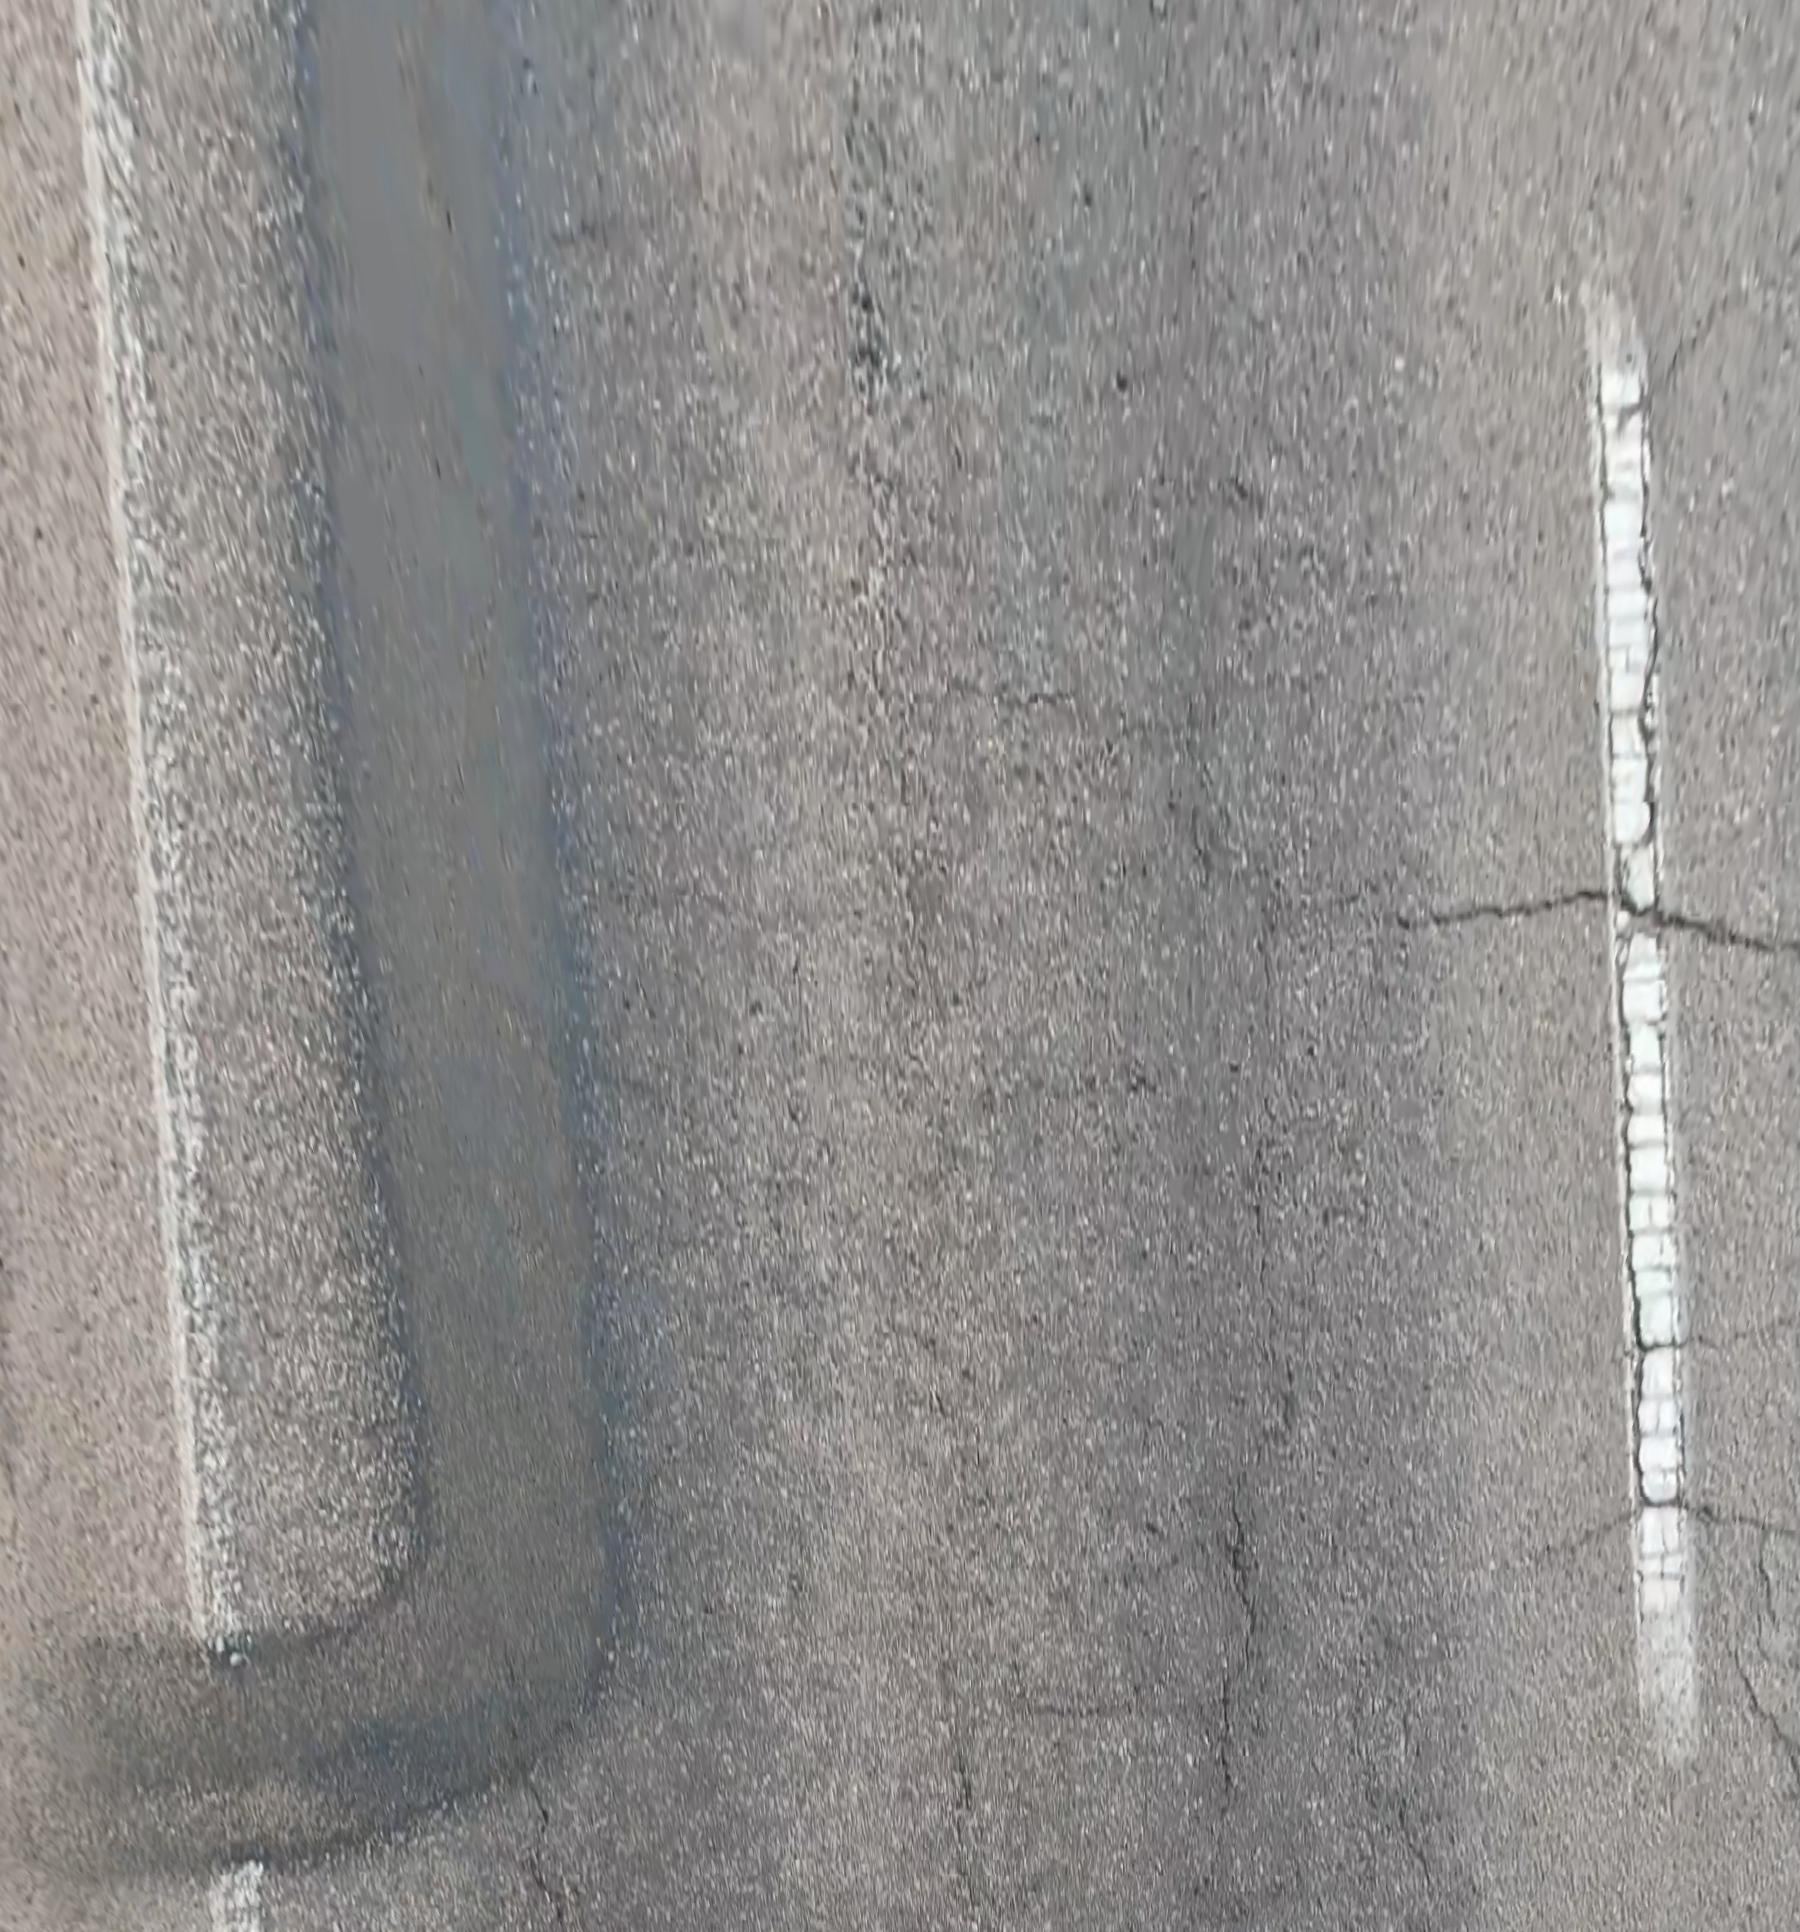pothole_patch_good: (19, 0, 607, 1859)
